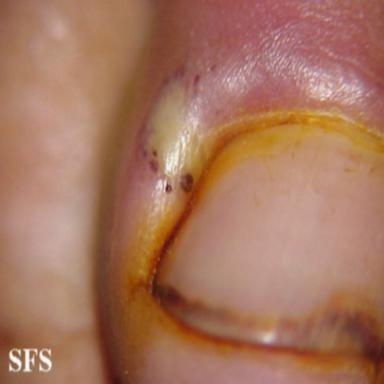Tungiasis: (138, 76, 198, 198)
